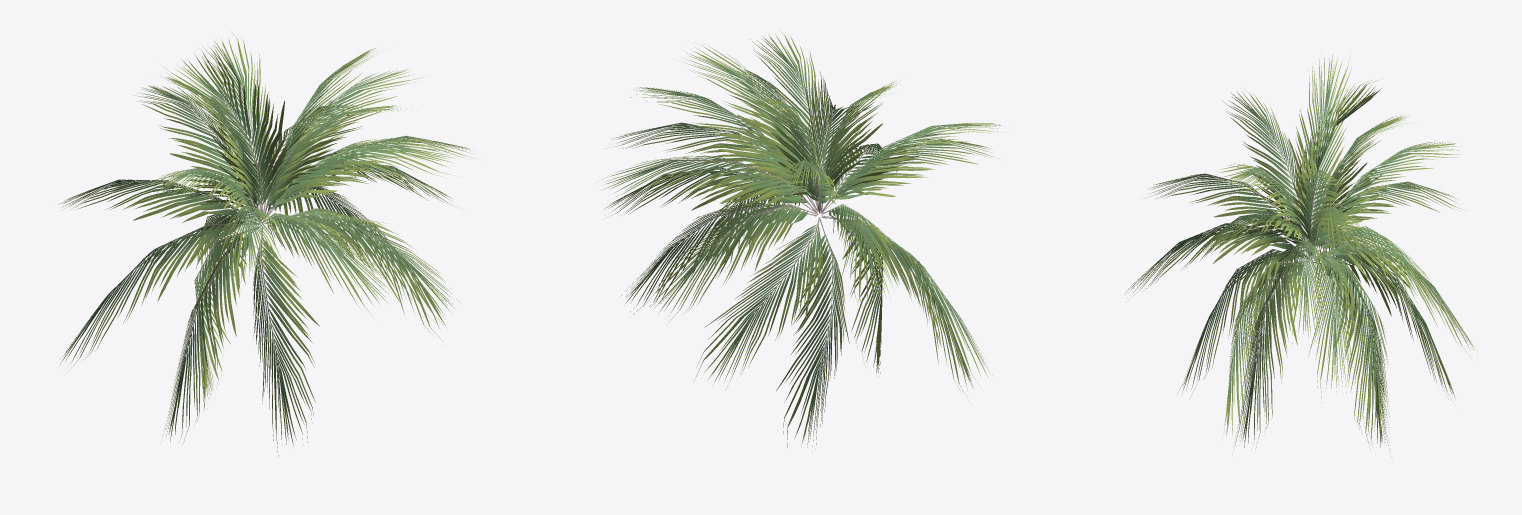
Rendered from m_palm_p2_14_leaf_0.001_lev2.glb.
The picture shows the model from 3 angles, left to right: view 1: azimuth 30°, elevation 25°; view 2: azimuth 150°, elevation 25°; view 3: azimuth 270°, elevation 25°; orthographic projection.
Visible parts, largest first — view 1: m_palm_p2_14_leaf_0.001_lev2; view 2: m_palm_p2_14_leaf_0.001_lev2; view 3: m_palm_p2_14_leaf_0.001_lev2.
Boxes of the visible parts, x1,y1,x2,y2 form: m_palm_p2_14_leaf_0.001_lev2: (58, 32, 475, 456); m_palm_p2_14_leaf_0.001_lev2: (604, 29, 1011, 449); m_palm_p2_14_leaf_0.001_lev2: (1125, 53, 1474, 448).
Bounding box in the file's own units: 3.99 × 3.44 × 3.06.
Materials: 1 (1 with a texture image).
